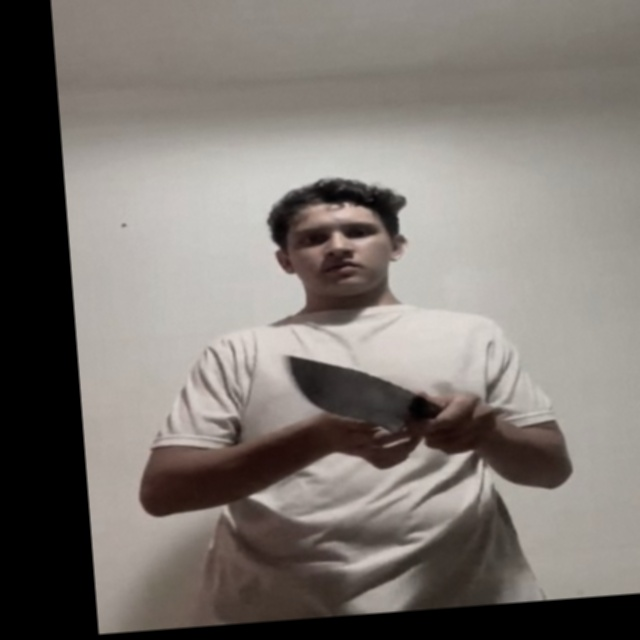Sharp-Object: (282, 347, 415, 442)
